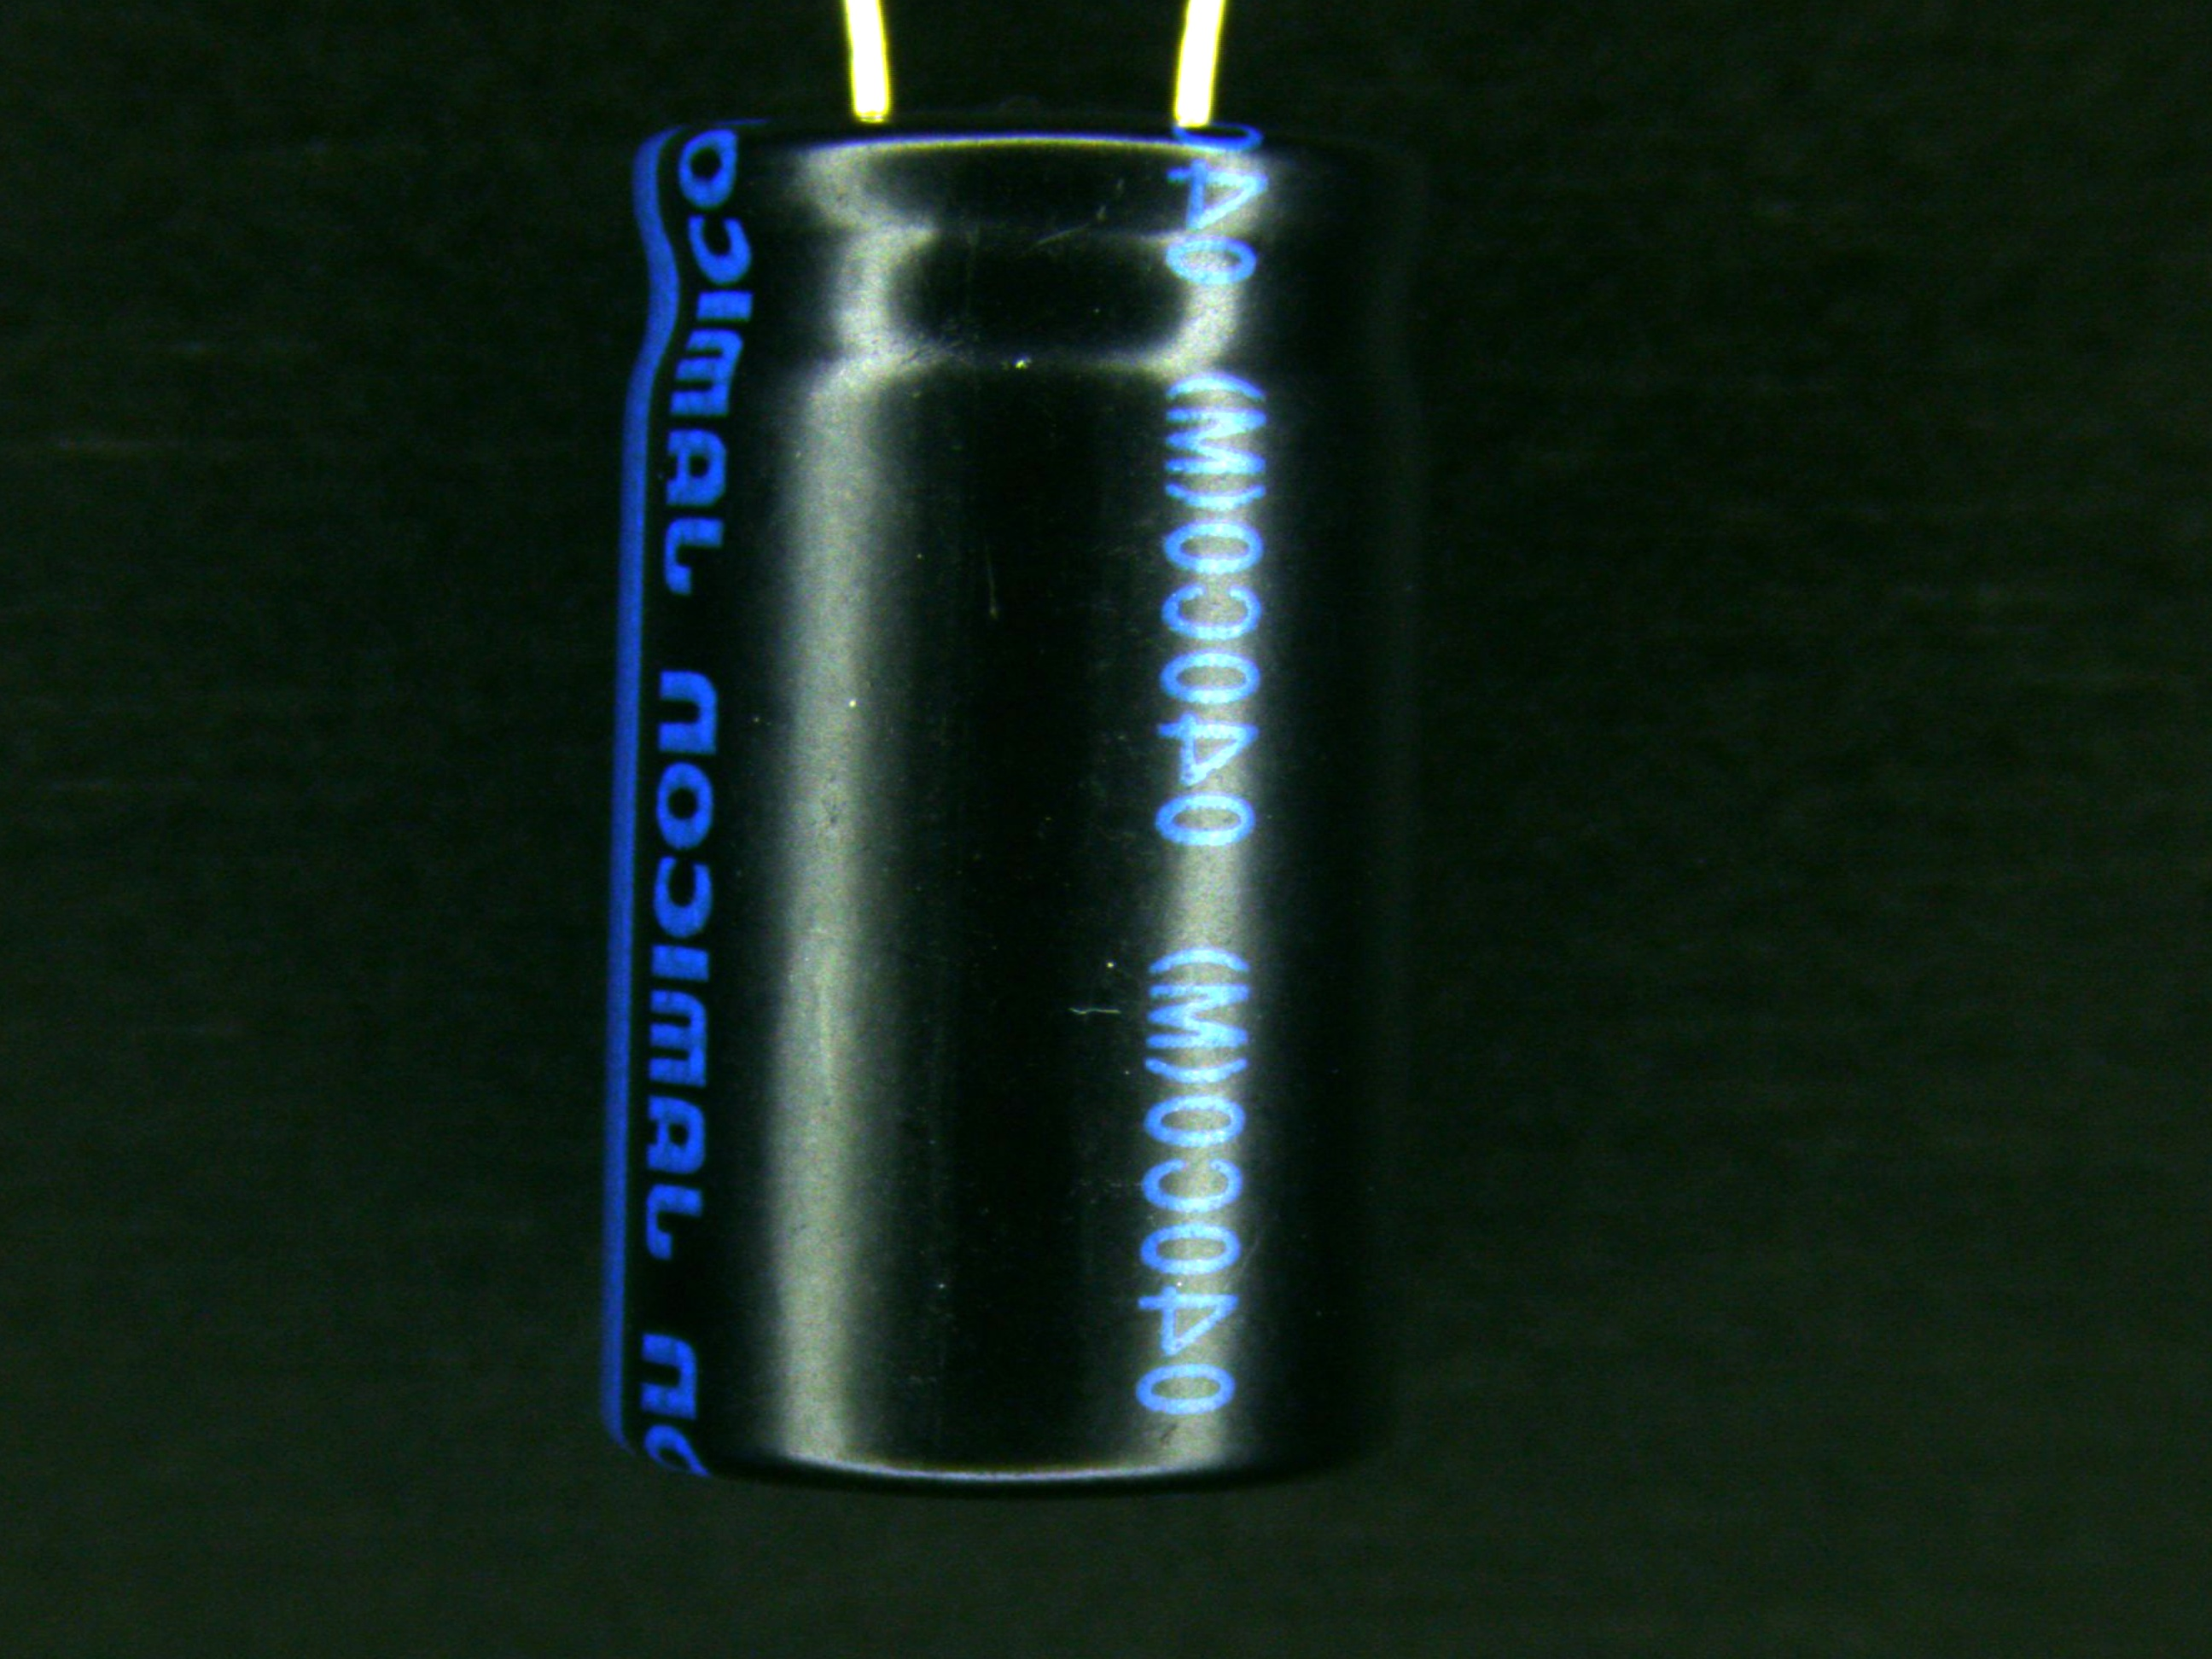c2: (590, 30, 1432, 1502)
